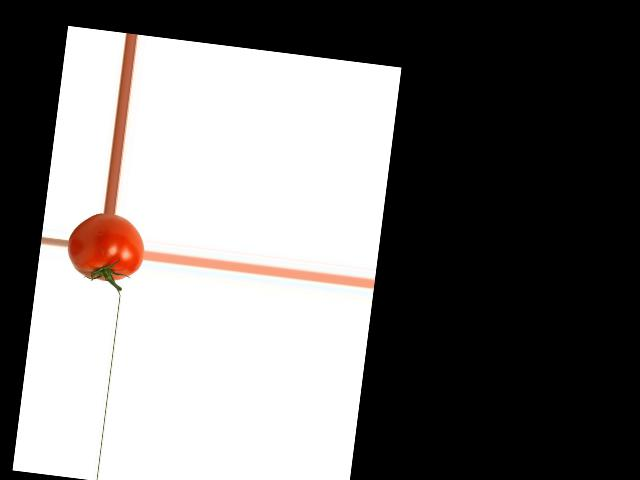tomato: (63, 210, 147, 285)
